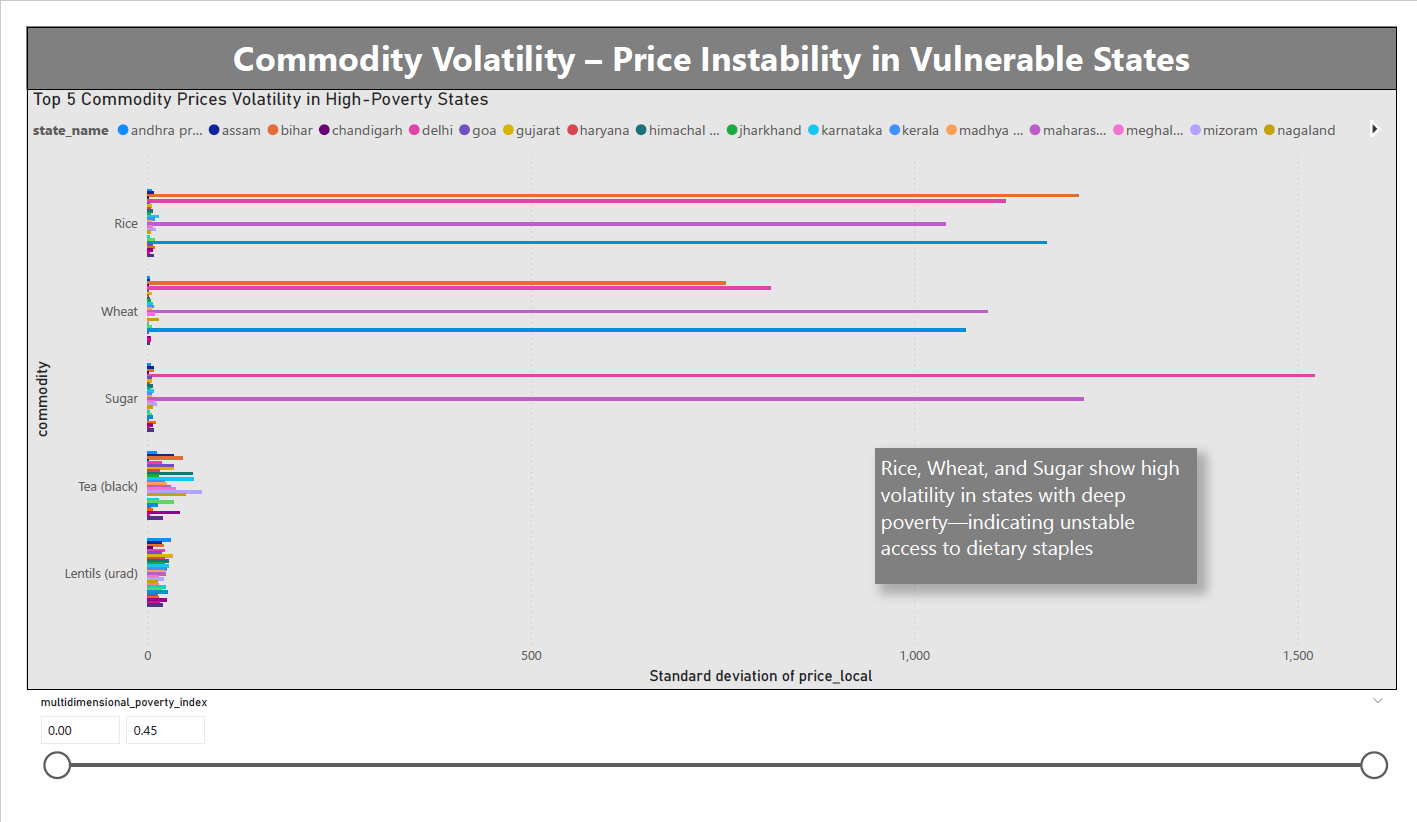

The page's visual inventory and layout, read from the dashboard file:
{"tool":"powerbi","page":{"name":"Commodity Volatitlity","canvas":[1280,720],"ordinal":2},"visuals":[{"type":"clusteredBarChart","title":"Top 5 Commodity Prices Volatility in High-Poverty States","fields":{"Category":["df_matched.commodity"],"Y":["Sum(df_matched.price_local)"],"Series":["df_matched.state_name"]},"box":[0,55.7,1280,564.3],"z":0},{"type":"slicer","fields":{"Values":["df_matched.multidimensional_poverty_index"]},"box":[0,620,1280,100],"z":1000},{"type":"textbox","box":[0,0,1280,58.6],"z":1001},{"type":"textbox","box":[792.9,394.3,300,125.7],"z":1002}]}

Visuals, with their boxes on the page's 1280x720 design canvas (x1, y1, x2, y2). These are canvas units, not pixel positions in the 1417x822 screenshot, which may show the page scaled, cropped or inside an application window:
"Top 5 Commodity Prices Volatility in High-Poverty States" clusteredBarChart: x1=0, y1=56, x2=1280, y2=620
slicer - df_matched.multidimensional_poverty_index: x1=0, y1=620, x2=1280, y2=720
textbox: x1=0, y1=0, x2=1280, y2=59
textbox: x1=793, y1=394, x2=1093, y2=520
